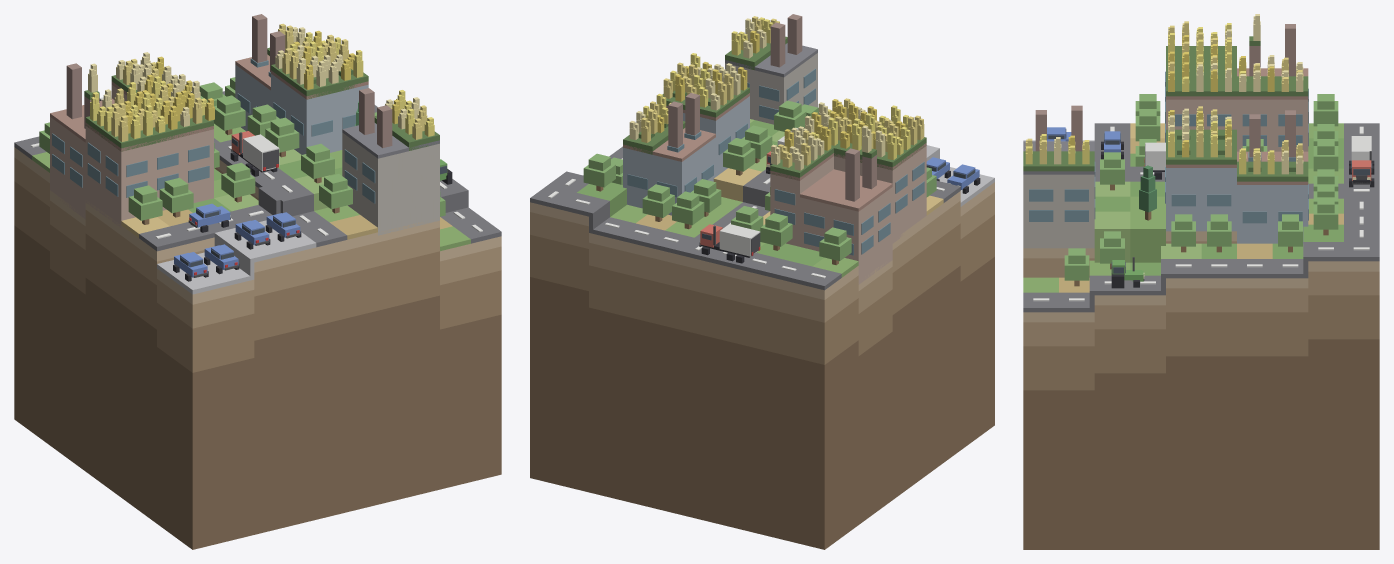
File: block_10_urbanfarm_45.glb
3 renders of one model, left to right at view 1: azimuth 30°, elevation 25°; view 2: azimuth 150°, elevation 25°; view 3: azimuth 270°, elevation 25°, orthographic. The views are drawn at different scales.
Visible parts, largest first — view 1: Patch_LowerLeft_b10_UF, Factories_LowerLeft_b10_UF, Roads_LowerLeft_b10_UF, Ground_LowerLeft_b10_UF, Parking_LowerLeft_b10_UF, UFR_Factories_LowerLeft_b10_UF, Asset_Truck.003_UF, Asset_Tree_Round.049_UF, Asset_Tree_Round.047_UF, Asset_Tree_Round.048_UF, Asset_Tree_Round.057_UF, Asset_Tree_Round.061_UF (+8 smaller); view 2: Patch_LowerLeft_b10_UF, Factories_LowerLeft_b10_UF, Roads_LowerLeft_b10_UF, Ground_LowerLeft_b10_UF, UFR_Factories_LowerLeft_b10_UF, Asset_Truck.002_UF, Asset_Tree_Round.029_UF, Asset_Tree_Round.027_UF, Asset_Tree_Round.024_UF, Asset_Tree_Round.025_UF, Asset_Tree_Round.042_UF, Asset_Tree_Round.028_UF (+7 smaller); view 3: Patch_LowerLeft_b10_UF, Factories_LowerLeft_b10_UF, Roads_LowerLeft_b10_UF, Ground_LowerLeft_b10_UF, UFR_Factories_LowerLeft_b10_UF, Asset_Truck.002_UF, RoadLines_LowerLeft_b10_UF, Asset_Tree_Round.029_UF, Asset_Tree_Round.062_UF, Asset_Tree_Round.043_UF, Asset_Tree_Round.045_UF, Asset_Tree_Round.037_UF (+9 smaller).
Boxes of the visible parts, x1,y1,x2,y2 form: Patch_LowerLeft_b10_UF: (14,147,501,549); Factories_LowerLeft_b10_UF: (50,14,439,235); Roads_LowerLeft_b10_UF: (14,91,501,251); Ground_LowerLeft_b10_UF: (32,123,470,251); Parking_LowerLeft_b10_UF: (157,220,316,294); UFR_Factories_LowerLeft_b10_UF: (84,47,439,151); Asset_Truck.003_UF: (230,131,279,176); Asset_Tree_Round.049_UF: (221,162,255,202); Asset_Tree_Round.047_UF: (128,185,162,224); Asset_Tree_Round.048_UF: (159,177,193,217); Asset_Tree_Round.057_UF: (301,143,334,183); Asset_Tree_Round.061_UF: (319,174,352,213); Patch_LowerLeft_b10_UF: (530,182,994,549); Factories_LowerLeft_b10_UF: (623,14,926,284); Roads_LowerLeft_b10_UF: (530,146,960,290); Ground_LowerLeft_b10_UF: (577,119,943,277); UFR_Factories_LowerLeft_b10_UF: (623,36,926,179); Asset_Truck.002_UF: (699,224,760,263); Asset_Tree_Round.029_UF: (583,153,615,191); Asset_Tree_Round.027_UF: (672,191,704,229); Asset_Tree_Round.024_UF: (819,227,851,265); Asset_Tree_Round.025_UF: (760,213,792,250); Asset_Tree_Round.042_UF: (723,138,755,175); Asset_Tree_Round.028_UF: (642,184,674,221); Patch_LowerLeft_b10_UF: (1023,231,1379,549); Factories_LowerLeft_b10_UF: (1023,24,1308,248); Roads_LowerLeft_b10_UF: (1023,123,1379,312); Ground_LowerLeft_b10_UF: (1023,123,1343,292); UFR_Factories_LowerLeft_b10_UF: (1023,36,1308,181); Asset_Truck.002_UF: (1349,136,1374,187); RoadLines_LowerLeft_b10_UF: (1033,126,1369,301); Asset_Tree_Round.029_UF: (1313,197,1338,235); Asset_Tree_Round.062_UF: (1064,248,1089,286); Asset_Tree_Round.043_UF: (1207,214,1231,252); Asset_Tree_Round.045_UF: (1171,214,1195,252); Asset_Tree_Round.037_UF: (1278,214,1302,252).
Bounding box in the file's own units: 9.52 × 11.59 × 9.5.
